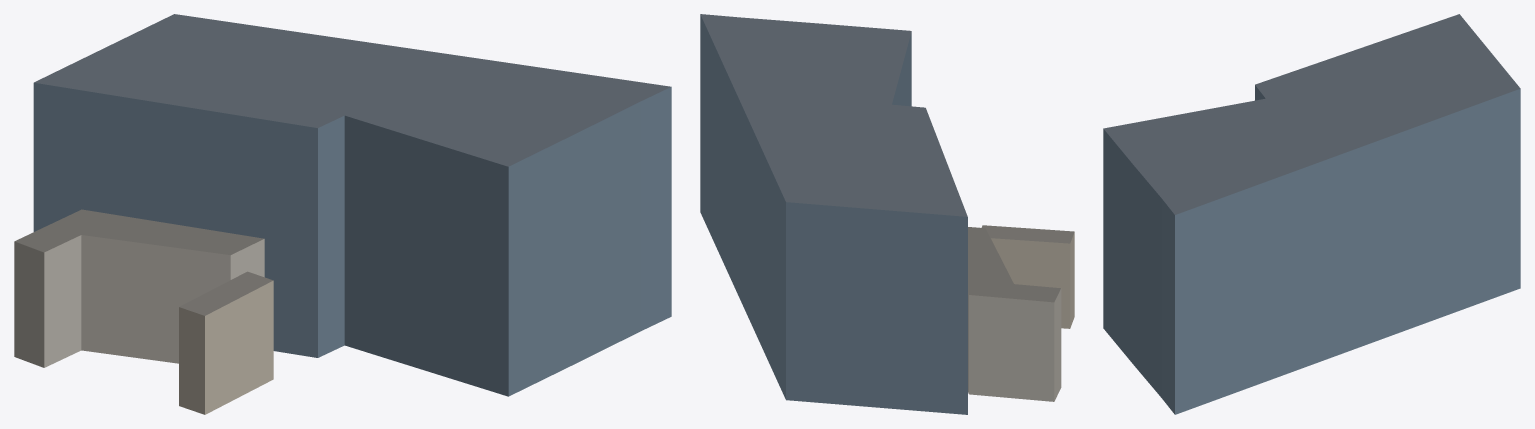
The model's file is tile_7_9.glb.
3 renders of one model, left to right at view 1: azimuth 30°, elevation 25°; view 2: azimuth 150°, elevation 25°; view 3: azimuth 270°, elevation 25°, orthographic. The views are drawn at different scales.
Parts seen in each view (by area): view 1: HP-w446933520, HP-w446933509, HP-w1198568464; view 2: HP-w446933520, HP-w446933509, HP-w1198568464; view 3: HP-w446933520.
Part boxes in pixels (<box>): HP-w446933520: <box>33,14,671,396</box>; HP-w446933509: <box>14,209,264,367</box>; HP-w1198568464: <box>179,271,273,414</box>; HP-w446933520: <box>700,14,967,414</box>; HP-w446933509: <box>968,227,1061,401</box>; HP-w1198568464: <box>981,225,1074,328</box>; HP-w446933520: <box>1103,14,1520,414</box>.
Size of the model in its own units: 102 by 41.8 by 79.12.
